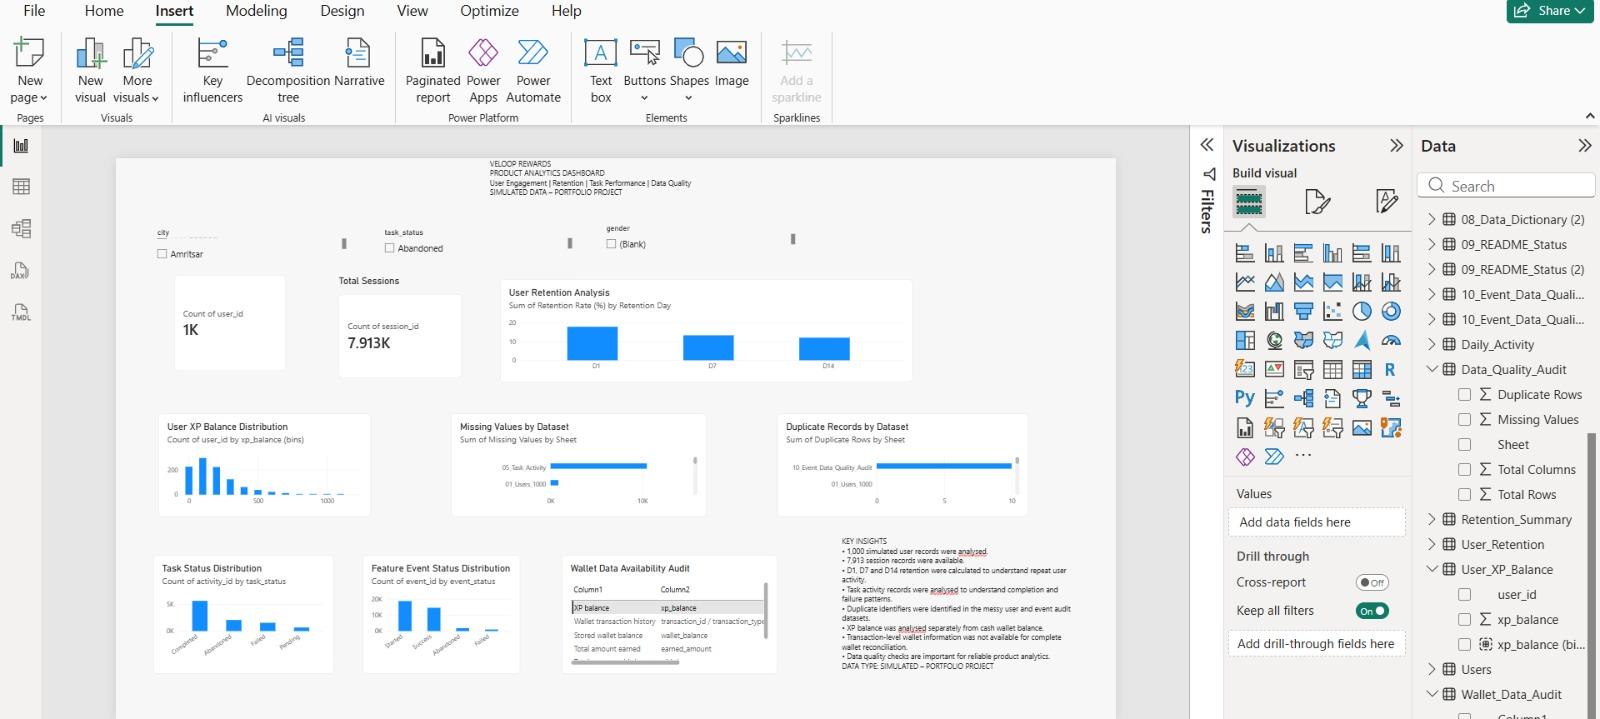

The page's visual inventory and layout, read from the dashboard file:
{"tool":"powerbi","page":{"name":"Page 1","canvas":[1920,1080],"ordinal":0},"visuals":[{"type":"textbox","box":[10,0,280,280],"z":0},{"type":"textbox","box":[10,290,280,280],"z":1000},{"type":"cardVisual","fields":{"Data":["Count(Users.user_id)"]},"box":[112,224,214,184],"z":3000},{"type":"clusteredColumnChart","title":"User Retention Analysis","fields":{"Category":["Retention_Summary.Retention Day"],"Y":["Sum(Retention_Summary.Retention Rate (%))"]},"box":[738,232,792,198],"z":4000},{"type":"clusteredBarChart","title":"Missing Values by Dataset","fields":{"Category":["Data_Quality_Audit.Sheet"],"Y":["Sum(Data_Quality_Audit.Missing Values)"]},"box":[644,490,490,198],"z":7000},{"type":"textbox","box":[718,0,972,140],"z":8001},{"type":"slicer","fields":{"Values":["05_Task_Activity.task_status"]},"box":[508,134,368,66],"z":8002},{"type":"clusteredColumnChart","title":"Feature Event Status Distribution","fields":{"Category":["03_Feature_Events.event_status"],"Y":["CountNonNull(03_Feature_Events.event_id)"]},"box":[474,762,302,228],"z":8003},{"type":"cardVisual","title":"Total Sessions","fields":{"Data":["Count(02_Sessions.session_id)"]},"box":[428,224,236,198],"z":8004},{"type":"slicer","fields":{"Values":["01_Users_1000.gender"]},"box":[934,126,370,60],"z":8005},{"type":"slicer","fields":{"Values":["01_Users_1000.city"]},"box":[72,134,370,66],"z":8006},{"type":"clusteredColumnChart","title":"Task Status Distribution","fields":{"Category":["05_Task_Activity.task_status"],"Y":["CountNonNull(05_Task_Activity.activity_id)"]},"box":[72,762,346,228],"z":8007},{"type":"clusteredBarChart","title":"Duplicate Records by Dataset","fields":{"Category":["Data_Quality_Audit.Sheet"],"Y":["Sum(Data_Quality_Audit.Duplicate Rows)"]},"box":[1270,490,482,198],"z":8008},{"type":"clusteredColumnChart","title":"User XP Balance Distribution","fields":{"Category":["User_XP_Balance.xp_balance (bins)"],"Y":["CountNonNull(User_XP_Balance.user_id)"]},"box":[82,490,408,198],"z":8009},{"type":"tableEx","title":"Wallet Data Availability Audit","fields":{"Values":["Wallet_Data_Audit.Column1","Wallet_Data_Audit.Column2","Wallet_Data_Audit.Column3"]},"box":[856,762,414,228],"z":8010},{"type":"textbox","box":[1394,726,450,264],"z":8011}]}

Visuals, with their boxes on the page's 1920x1080 design canvas (x1, y1, x2, y2). These are canvas units, not pixel positions in the 1600x719 screenshot, which may show the page scaled, cropped or inside an application window:
textbox: Rect(10, 0, 290, 280)
textbox: Rect(10, 290, 290, 570)
cardVisual - Count(Users.user_id): Rect(112, 224, 326, 408)
"User Retention Analysis" clusteredColumnChart: Rect(738, 232, 1530, 430)
"Missing Values by Dataset" clusteredBarChart: Rect(644, 490, 1134, 688)
textbox: Rect(718, 0, 1690, 140)
slicer - 05_Task_Activity.task_status: Rect(508, 134, 876, 200)
"Feature Event Status Distribution" clusteredColumnChart: Rect(474, 762, 776, 990)
"Total Sessions" cardVisual: Rect(428, 224, 664, 422)
slicer - 01_Users_1000.gender: Rect(934, 126, 1304, 186)
slicer - 01_Users_1000.city: Rect(72, 134, 442, 200)
"Task Status Distribution" clusteredColumnChart: Rect(72, 762, 418, 990)
"Duplicate Records by Dataset" clusteredBarChart: Rect(1270, 490, 1752, 688)
"User XP Balance Distribution" clusteredColumnChart: Rect(82, 490, 490, 688)
"Wallet Data Availability Audit" tableEx: Rect(856, 762, 1270, 990)
textbox: Rect(1394, 726, 1844, 990)
